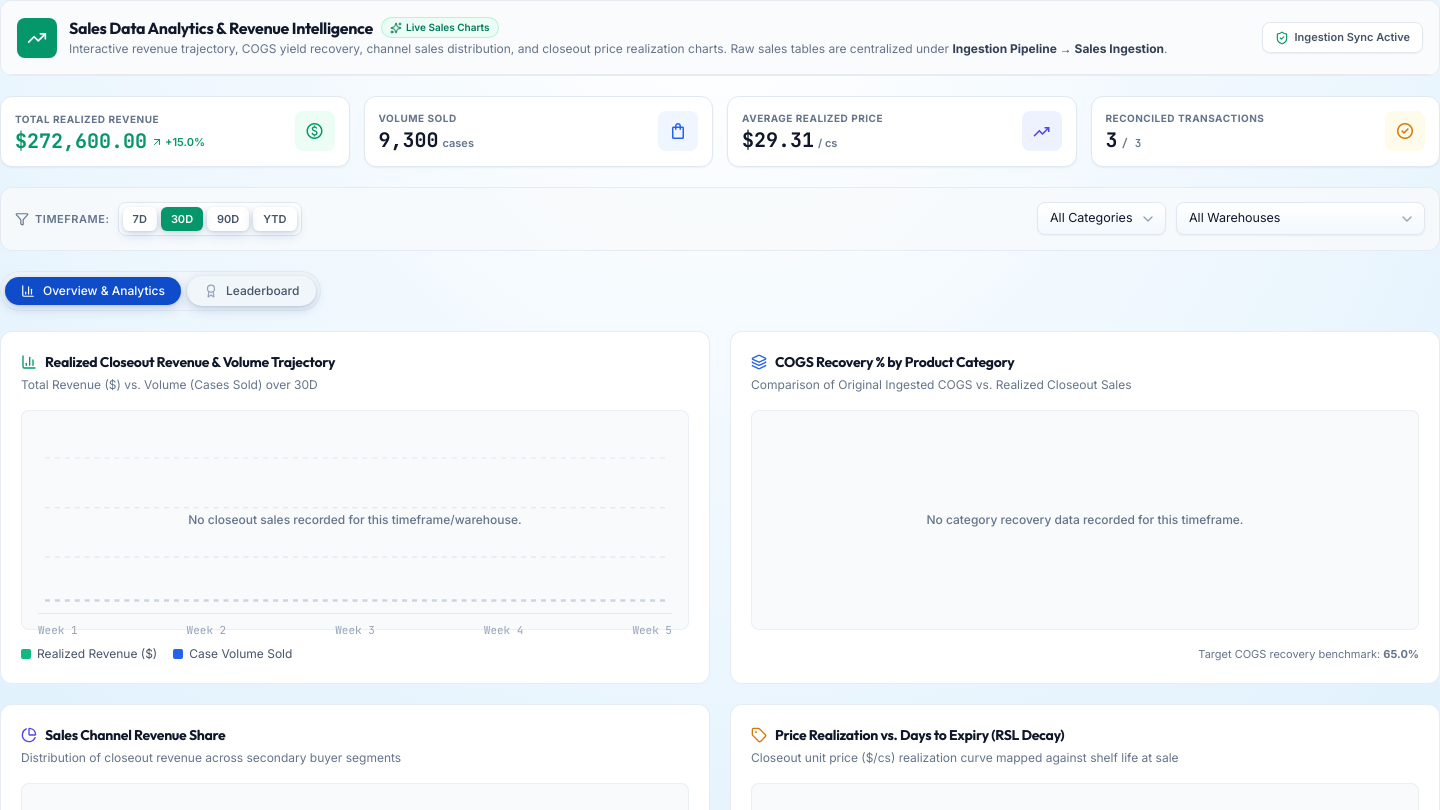
Test: Seam: Top Warehouses / DCs Expandable Accordion & Drilldown › renders ranked summary cards showing rank badge, warehouse name/location, cleared revenue, case volume, recovery % badge, and cleared transaction count
What coordinates should you click on to do the following:
click the tab "Leaderboard"
I would click on:
 (252, 291)
Its box is [187,276,316,306].
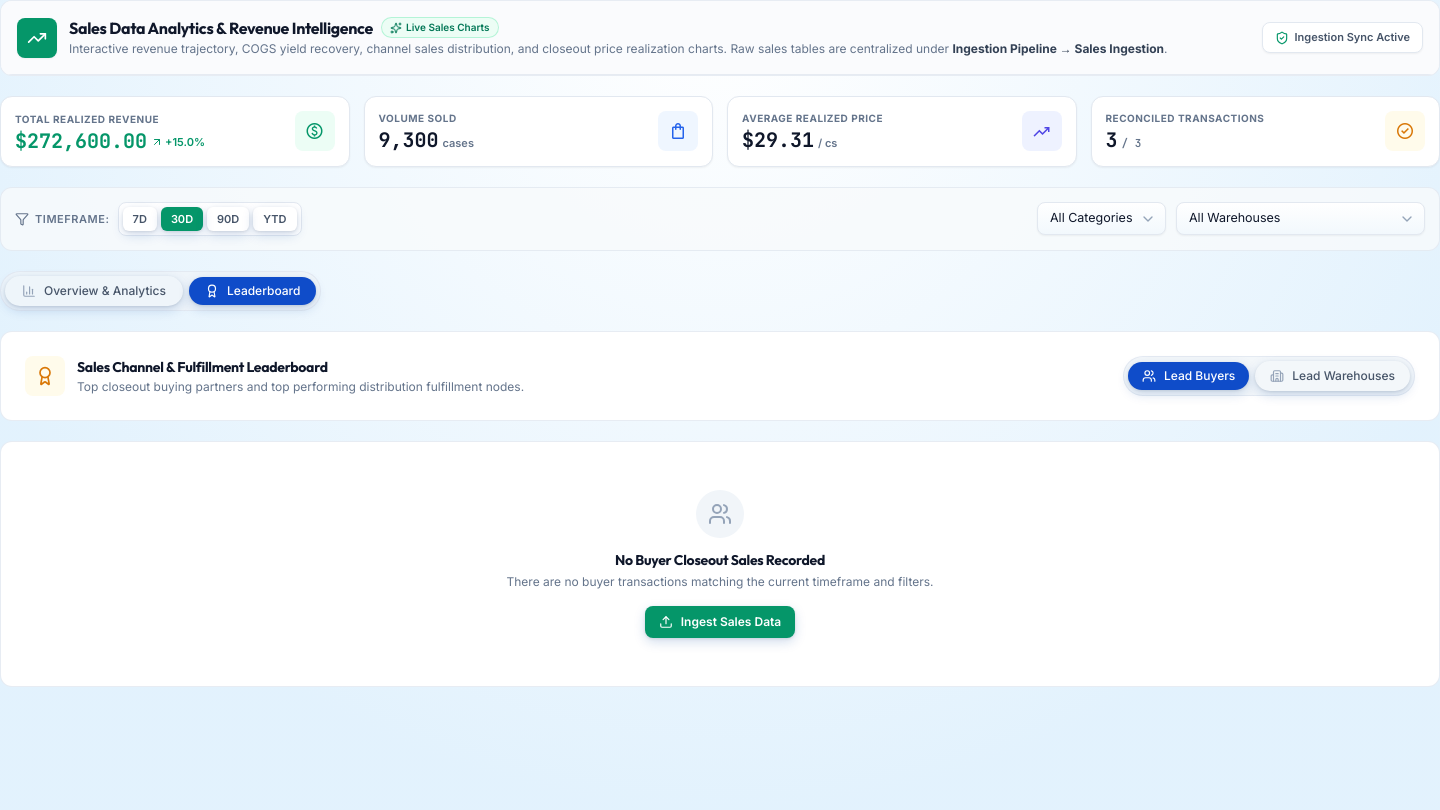
What coordinates should you click on to do the following:
click the tab "Lead Warehouses"
I would click on:
 (1333, 376)
Its box is [1255,361,1410,391].
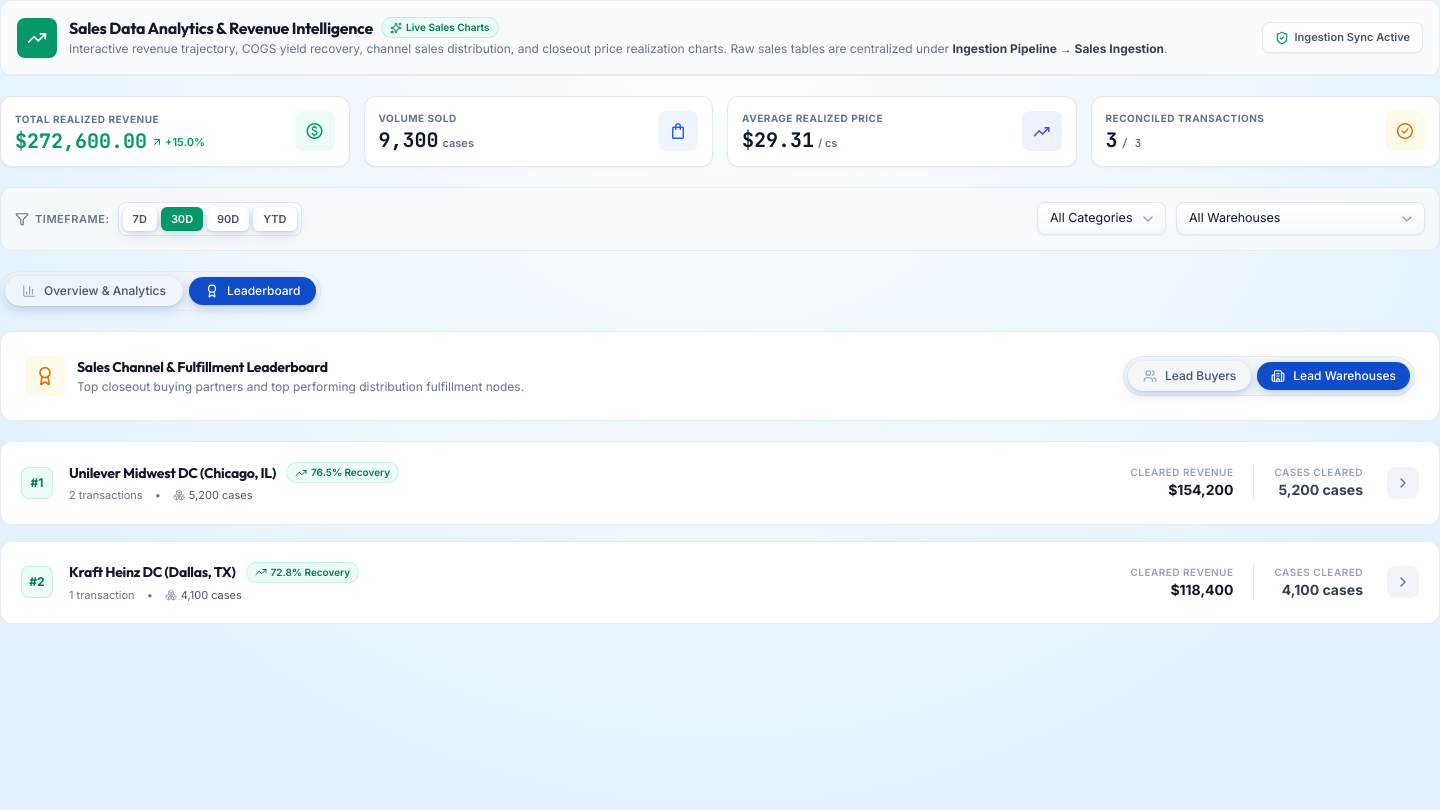
Check: the panel with test id "sales-subview-warehouses" is shown, box [0,441,1439,624]
Check: the element with test id "warehouse-card-warehouse-1" is shown, box [0,441,1439,524]
Check: the text "#1" is shown, box [21,467,53,499]
